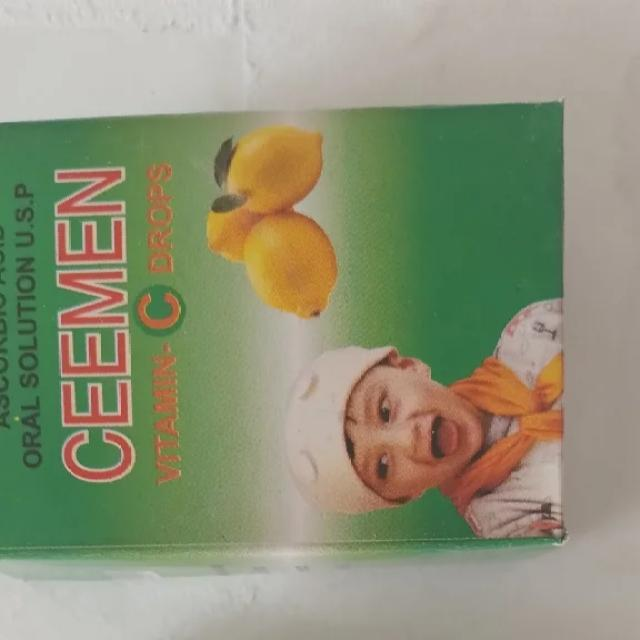drug-name: (46, 160, 140, 486)
